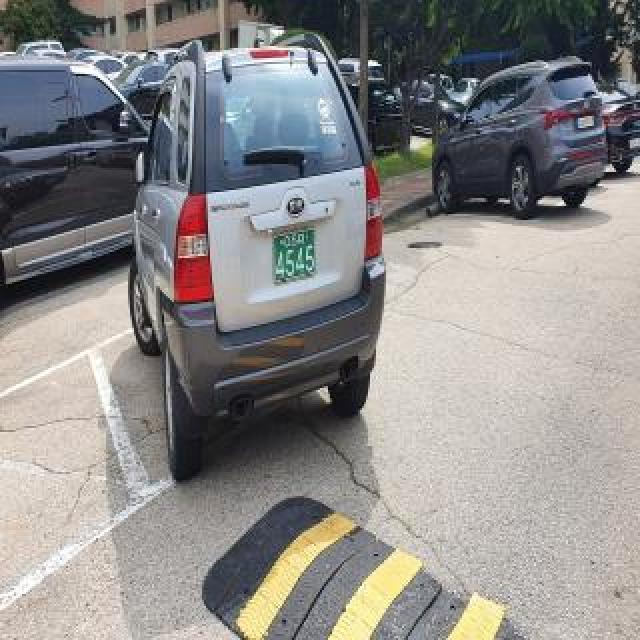car: (122, 22, 390, 484)
illegal_plate: (267, 224, 325, 291)
